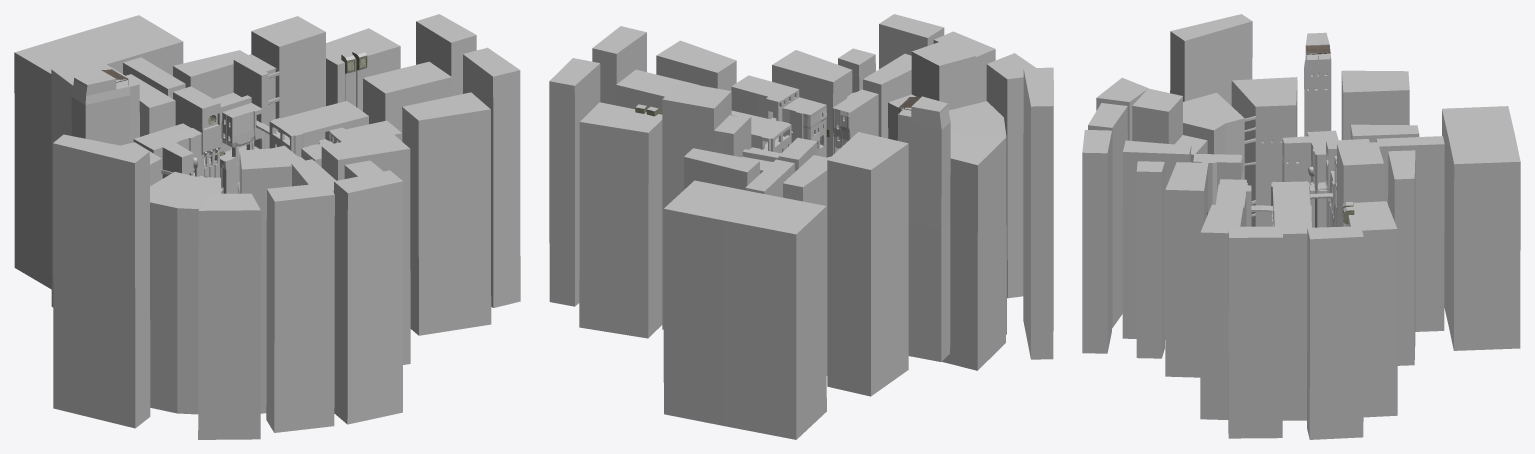
The model's file is SM_Corridor_02_00.fbx.
The picture shows the model from 3 angles, left to right: view 1: azimuth 30°, elevation 25°; view 2: azimuth 150°, elevation 25°; view 3: azimuth 270°, elevation 25°; orthographic projection. The views are drawn at different scales.
Visible parts, largest first — view 1: SM_Corridor_02_00.003, SM_Corridor_02_00.009, SM_Corridor_02_00.024, SM_Corridor_02_00.023, SM_Corridor_02_00.021, SM_Corridor_02_00, SM_Corridor_02_00.022; view 2: SM_Corridor_02_00.009, SM_Corridor_02_00.003, SM_Corridor_02_00.024, SM_Corridor_02_00.022, SM_Corridor_02_00.020, SM_Corridor_02_00.023, SM_Corridor_02_00.021; view 3: SM_Corridor_02_00.009, SM_Corridor_02_00.003, SM_Corridor_02_00.024, SM_Corridor_02_00, SM_Corridor_02_00.020, SM_Corridor_02_00.023, SM_Corridor_02_00.022, SM_Corridor_02_00.021.
Boxes of the visible parts, bbox=[...] form: SM_Corridor_02_00.003: bbox=[14, 14, 520, 439]; SM_Corridor_02_00.009: bbox=[51, 28, 491, 414]; SM_Corridor_02_00.024: bbox=[161, 16, 325, 193]; SM_Corridor_02_00.023: bbox=[269, 101, 368, 156]; SM_Corridor_02_00.021: bbox=[173, 86, 220, 177]; SM_Corridor_02_00: bbox=[133, 123, 223, 193]; SM_Corridor_02_00.022: bbox=[301, 120, 401, 166]; SM_Corridor_02_00.009: bbox=[579, 40, 1006, 396]; SM_Corridor_02_00.003: bbox=[549, 14, 1053, 439]; SM_Corridor_02_00.024: bbox=[662, 82, 780, 329]; SM_Corridor_02_00.022: bbox=[731, 75, 826, 157]; SM_Corridor_02_00.020: bbox=[832, 89, 878, 153]; SM_Corridor_02_00.023: bbox=[731, 110, 791, 153]; SM_Corridor_02_00.021: bbox=[778, 137, 817, 171]; SM_Corridor_02_00.009: bbox=[1122, 32, 1444, 420]; SM_Corridor_02_00.003: bbox=[1082, 14, 1520, 439]; SM_Corridor_02_00.024: bbox=[1244, 116, 1383, 226]; SM_Corridor_02_00: bbox=[1282, 130, 1338, 227]; SM_Corridor_02_00.020: bbox=[1193, 153, 1243, 212]; SM_Corridor_02_00.023: bbox=[1251, 181, 1310, 226]; SM_Corridor_02_00.022: bbox=[1215, 179, 1251, 226]; SM_Corridor_02_00.021: bbox=[1325, 139, 1369, 227].
Size of the model in its own units: 20278 by 11625 by 19154.
